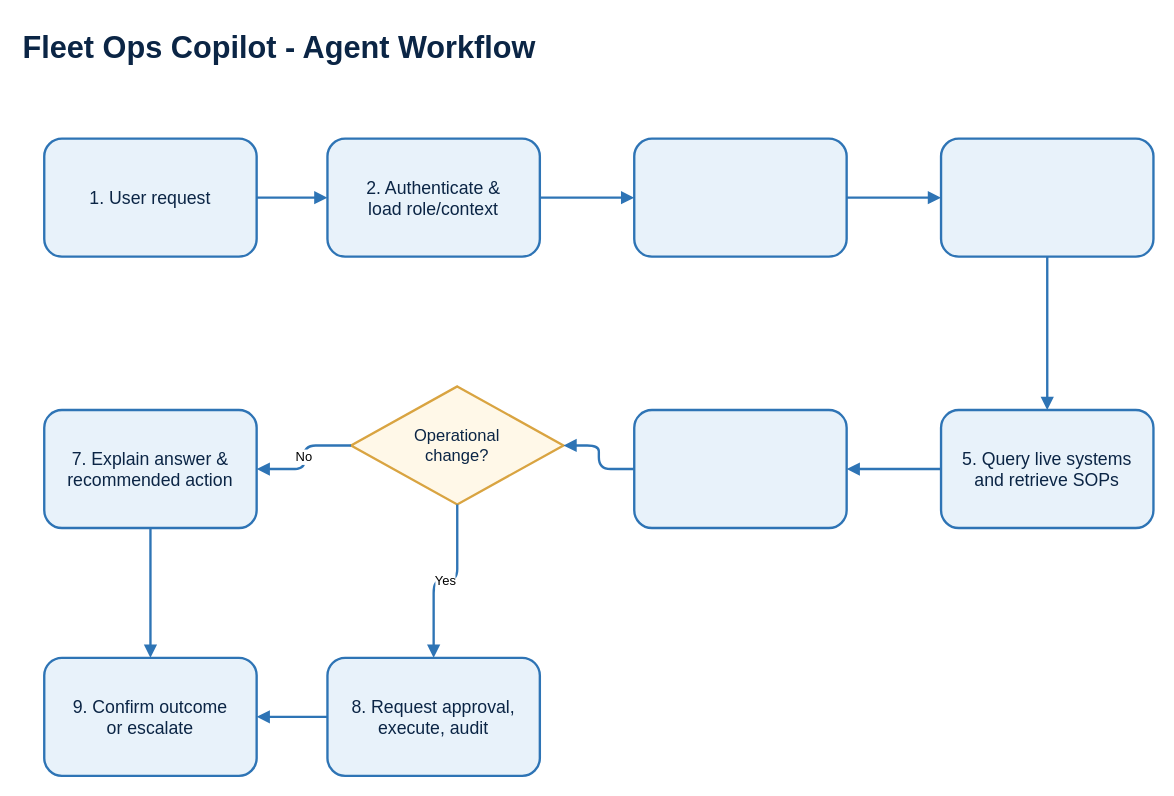
Some shapes in this 1174 by 796 pixel diagram are drawn without their labels. Here are the shapes that lost their labels. From the top down, the centre of each, then its label:
[739,197]: 3. Detect intent & required freshness
[1046,197]: 4. Plan and choose approved tools
[739,468]: 6. Validate sources, time and conflicts
